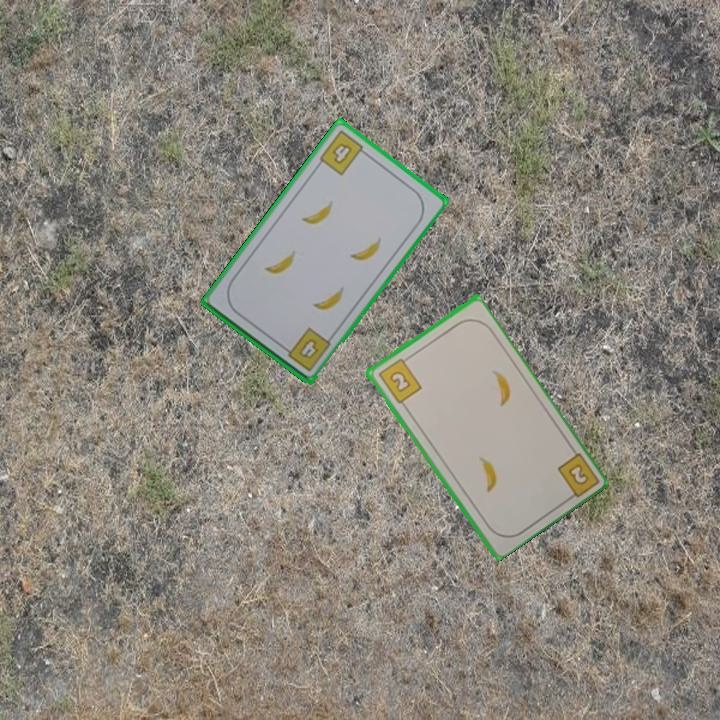2b: (374, 353, 424, 406), (553, 448, 599, 504)
4b: (316, 126, 371, 178), (279, 324, 334, 374)
